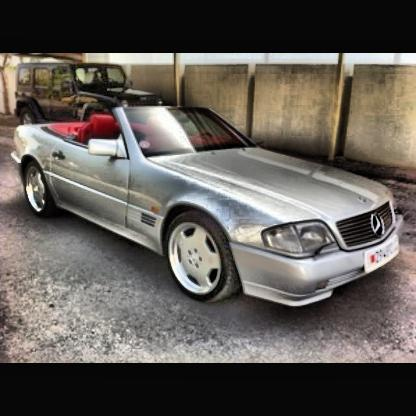Mercedes-Benz 300-Class Convertible 1993: (14, 106, 403, 308)
